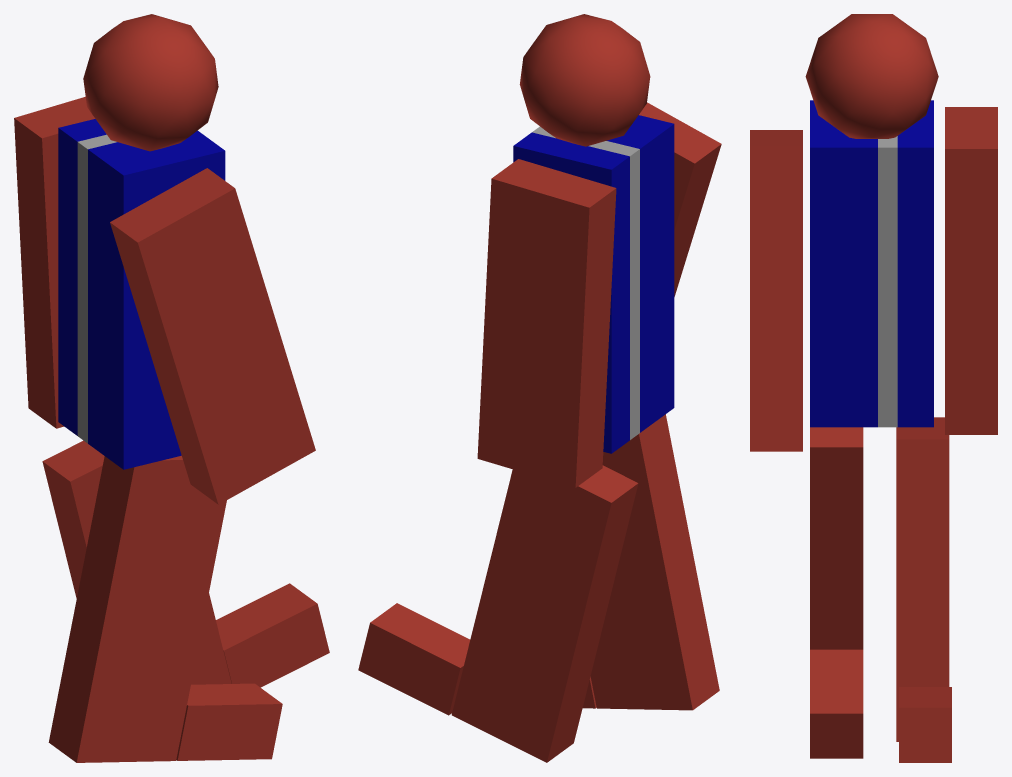
File: player_000047.obj
3 renders of one model, left to right at view 1: azimuth 30°, elevation 25°; view 2: azimuth 150°, elevation 25°; view 3: azimuth 270°, elevation 25°, orthographic. The views are drawn at different scales.
Parts seen in each view (by area): view 1: Cube.005, Cube.001, Cube, Icosphere, Cube.006, Cube.004, Cube.003, Cube.002; view 2: Cube.006, Cube.002, Cube.001, Cube, Icosphere, Cube.004, Cube.005; view 3: Cube, Cube.006, Cube.005, Cube.002, Icosphere, Cube.001, Cube.003, Cube.004.
Boxes of the visible parts, x1,y1,x2,y2 form: Cube.005: [110, 168, 315, 504]; Cube.001: [48, 455, 226, 762]; Cube: [58, 119, 225, 469]; Icosphere: [83, 14, 218, 151]; Cube.006: [14, 96, 95, 428]; Cube.004: [216, 583, 329, 687]; Cube.003: [176, 683, 282, 760]; Cube.002: [42, 440, 231, 684]; Cube.006: [477, 159, 616, 487]; Cube.002: [451, 465, 638, 762]; Cube.001: [590, 414, 719, 710]; Cube: [513, 115, 674, 453]; Icosphere: [519, 14, 650, 146]; Cube.004: [358, 603, 469, 715]; Cube.005: [639, 102, 721, 296]; Cube: [810, 100, 933, 427]; Cube.006: [945, 107, 997, 434]; Cube.005: [750, 130, 802, 451]; Cube.002: [896, 417, 949, 741]; Icosphere: [805, 14, 938, 138]; Cube.001: [810, 427, 863, 649]; Cube.003: [810, 649, 863, 758]; Cube.004: [899, 687, 951, 762].
Size of the model in its own units: 1.21 by 2.86 by 0.9137.
